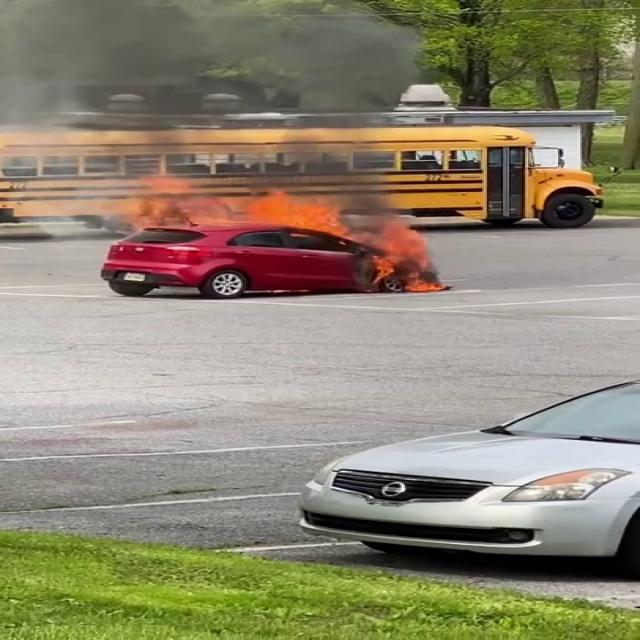Fire: (138, 178, 358, 232), (370, 231, 450, 293)
Smoke: (0, 0, 422, 186)
